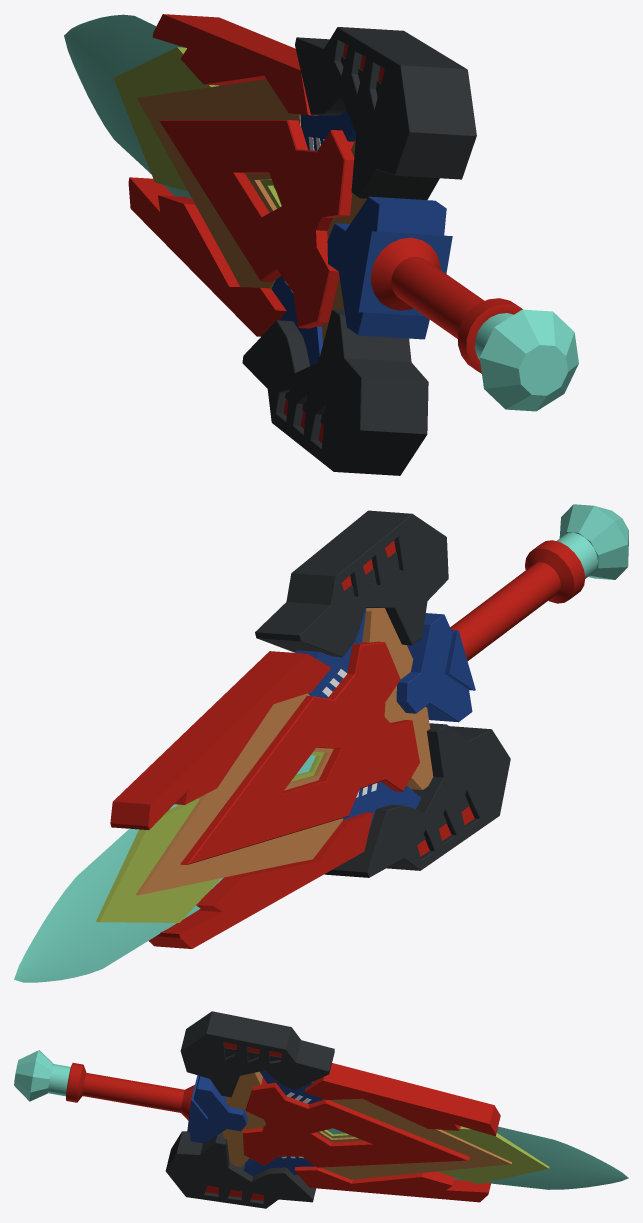
Rendered from Kiara-Sword.fbx.
3 renders of one model, top to bottom at view 1: azimuth 30°, elevation 25°; view 2: azimuth 150°, elevation 25°; view 3: azimuth 270°, elevation 25°, orthographic. The views are drawn at different scales.
Parts seen in each view (by area): view 1: Kiara Sword; view 2: Kiara Sword; view 3: Kiara Sword.
Boxes of the visible parts, x1=… form: Kiara Sword: x1=64, y1=14, x2=578, y2=475; Kiara Sword: x1=14, y1=504, x2=628, y2=982; Kiara Sword: x1=14, y1=1011, x2=628, y2=1208.
Size of the model in its own units: 48.53 by 97.02 by 271.
